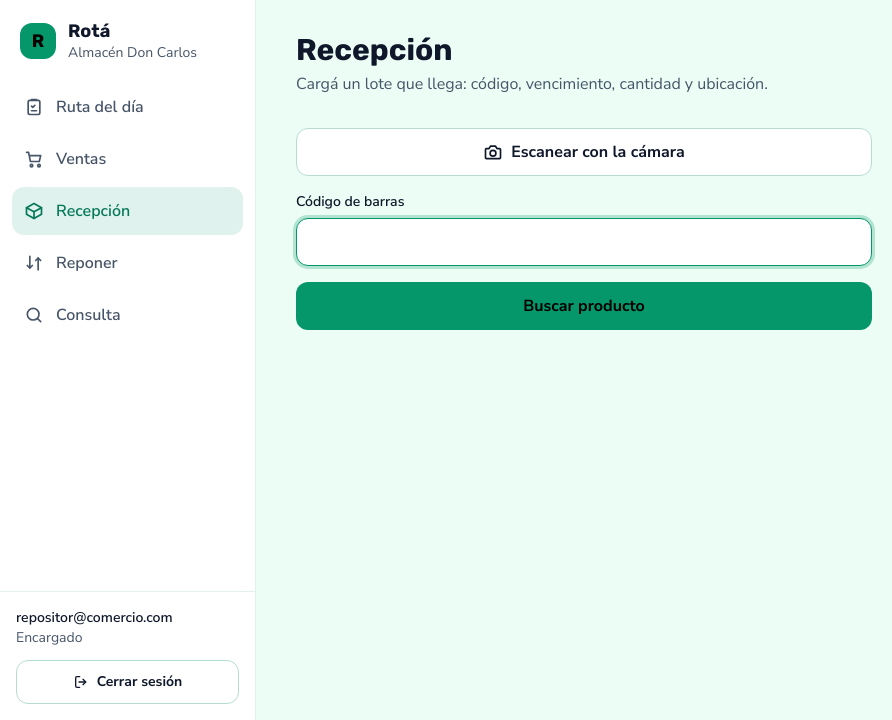
Test case: Recepción con escaneo (HU-27) › ignora lecturas repetidas del mismo escaneo
The width and height of the screenshot is (892, 720).
Click the button "Escanear con la cámara" at (584, 152), box x1=296 y1=128 x2=872 y2=176
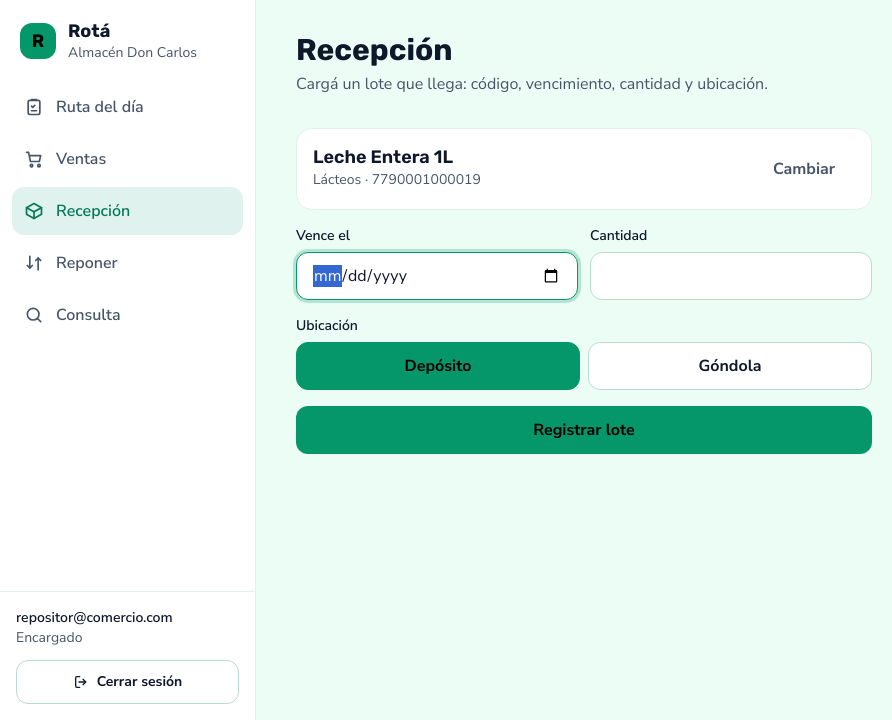
Expected: the text "Leche Entera 1L" is shown, x1=313 y1=146 x2=453 y2=168
